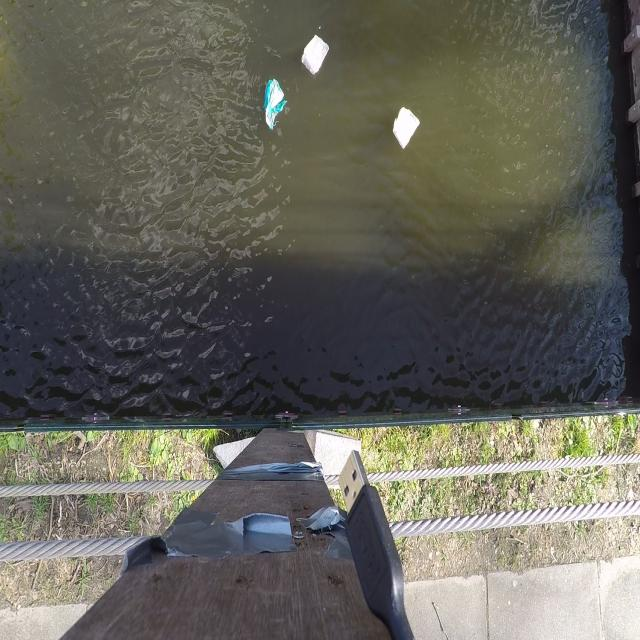Autre plastique: (386, 102, 426, 155), (296, 30, 332, 77)
Sac plastique: (258, 72, 288, 135)
